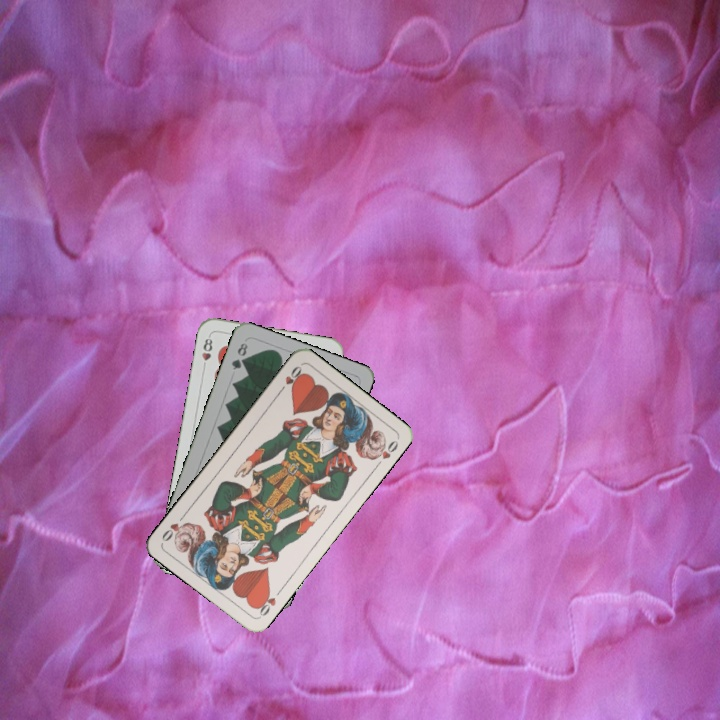G8: (227, 339, 250, 372)
H8: (198, 332, 215, 372)
HO: (252, 585, 285, 620), (274, 362, 305, 396)
